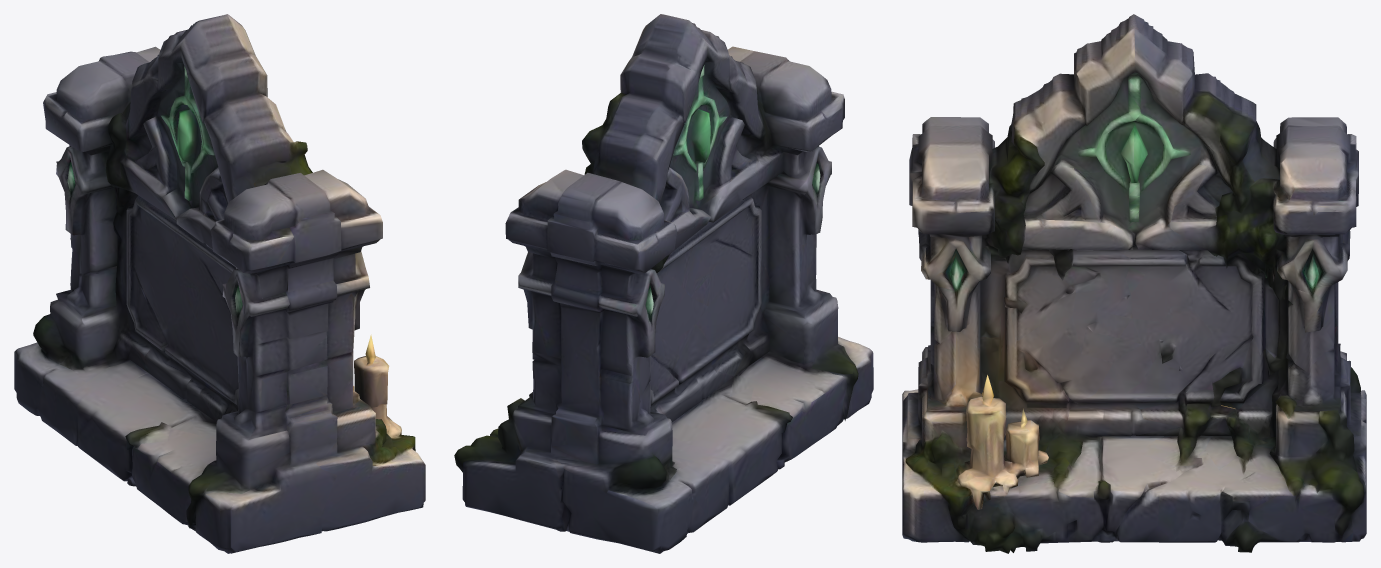
File: wall-plaque.glb
3 views of the same model, side by side, from view 1: azimuth 30°, elevation 25°; view 2: azimuth 150°, elevation 25°; view 3: azimuth 270°, elevation 25° (orthographic). The views are drawn at different scales.
Parts seen in each view (by area): view 1: tripo_node_03db0eab-1697-4b37-aef6-2eb3b3a8b43d; view 2: tripo_node_03db0eab-1697-4b37-aef6-2eb3b3a8b43d; view 3: tripo_node_03db0eab-1697-4b37-aef6-2eb3b3a8b43d.
Part boxes in pixels (<box>): tripo_node_03db0eab-1697-4b37-aef6-2eb3b3a8b43d: <box>14,14,425,553</box>; tripo_node_03db0eab-1697-4b37-aef6-2eb3b3a8b43d: <box>454,14,873,553</box>; tripo_node_03db0eab-1697-4b37-aef6-2eb3b3a8b43d: <box>902,14,1366,553</box>.
Bounding box in the file's own units: 0.548 × 1 × 0.8959.
1 material, 1 textured.
